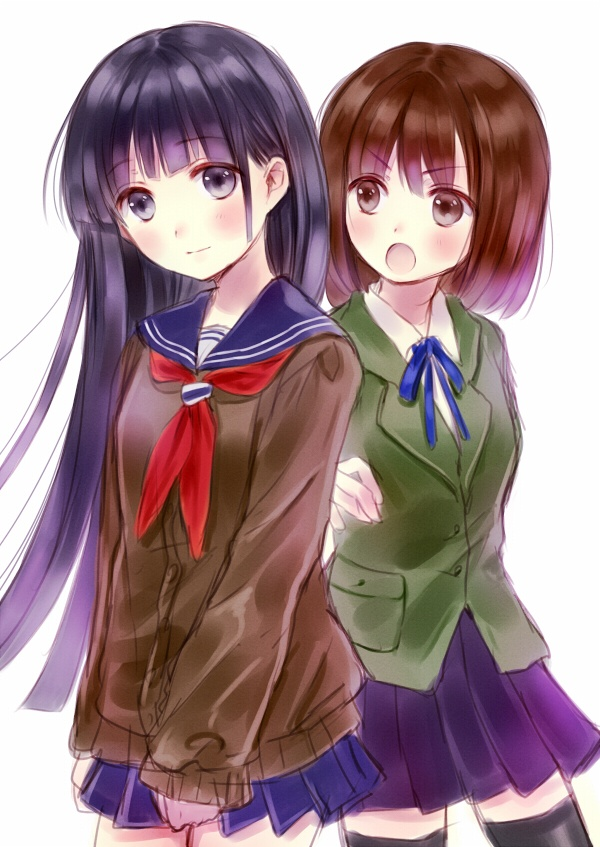纸片人正脸: (47, 14, 326, 284), (312, 36, 553, 292)
